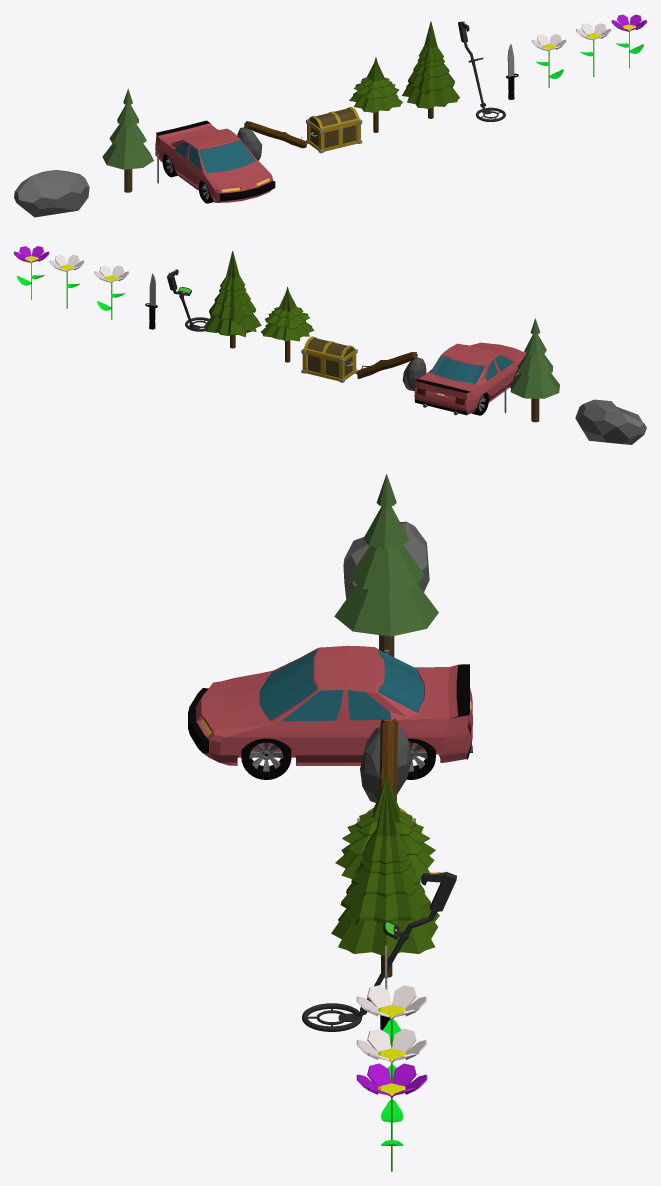
File: assets.fbx
The picture shows the model from 3 angles, top to bottom: view 1: azimuth 30°, elevation 25°; view 2: azimuth 150°, elevation 25°; view 3: azimuth 270°, elevation 25°; orthographic projection. The views are drawn at different scales.
Visible parts, largest first — view 1: carro, Icosphere, Tronco2, Folhas_1, Bau, Tronco1, ArvoreCaida, DetectorMetal, Cube.004, Cube.002, Cube, Faca; view 2: carro, Tronco2, Icosphere, Folhas_1, Bau, Tronco1, ArvoreCaida, DetectorMetal, Cube.004, Cube.002, Cube, Faca; view 3: carro, Tronco2, Folhas_1, Tronco1, ArvoreCaida, DetectorMetal, Cube.002, Cube.004, Cube, Icosphere.
Part boxes in pixels (x1,y1,x2,y2): carro: (155,120,275,203); Icosphere: (14,170,89,217); Tronco2: (402,21,459,118); Folhas_1: (102,88,153,192); Bau: (306,106,362,153); Tronco1: (349,57,402,132); ArvoreCaida: (237,121,306,160); DetectorMetal: (458,21,505,121); Cube.004: (531,34,566,88); Cube.002: (611,14,646,68); Cube: (576,23,611,77); Faca: (506,44,518,99); carro: (414,342,526,415); Tronco2: (203,251,261,348); Icosphere: (575,399,646,444); Folhas_1: (510,318,559,422); Bau: (301,336,357,382); Tronco1: (261,286,314,362); ArvoreCaida: (355,352,426,390); DetectorMetal: (167,269,208,331); Cube.004: (94,265,129,319); Cube.002: (14,246,49,299); Cube: (49,254,84,308); Faca: (145,273,157,329); carro: (188,645,472,779); Tronco2: (331,783,439,977); Folhas_1: (334,474,438,656); Tronco1: (335,774,435,879); ArvoreCaida: (360,718,412,802); DetectorMetal: (302,871,456,1031); Cube.002: (356,1063,427,1171); Cube.004: (356,985,427,1048); Cube: (356,1028,427,1082); Icosphere: (343,521,429,598).
Bounding box in the file's own units: 8889 × 1440 × 1749.
